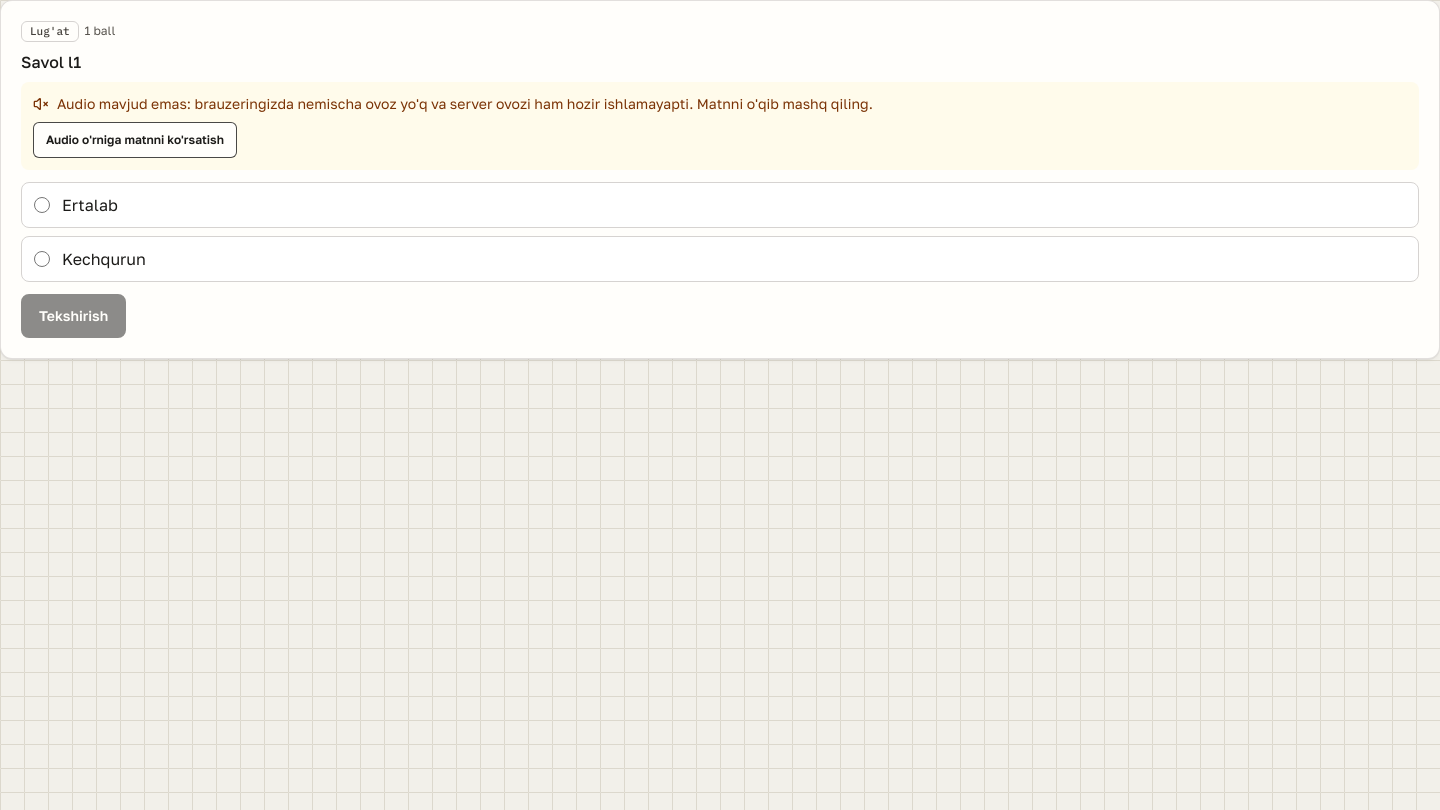
it: audio exercises without TTS › says audio is not available instead of showing a play button, and can reveal the text
Expected: the text "Audio mavjud emas" is shown, [57,95,873,112]
Click the button "Audio o'rniga matnni ko'rsatish" at (135, 140), box [33,122,237,158]
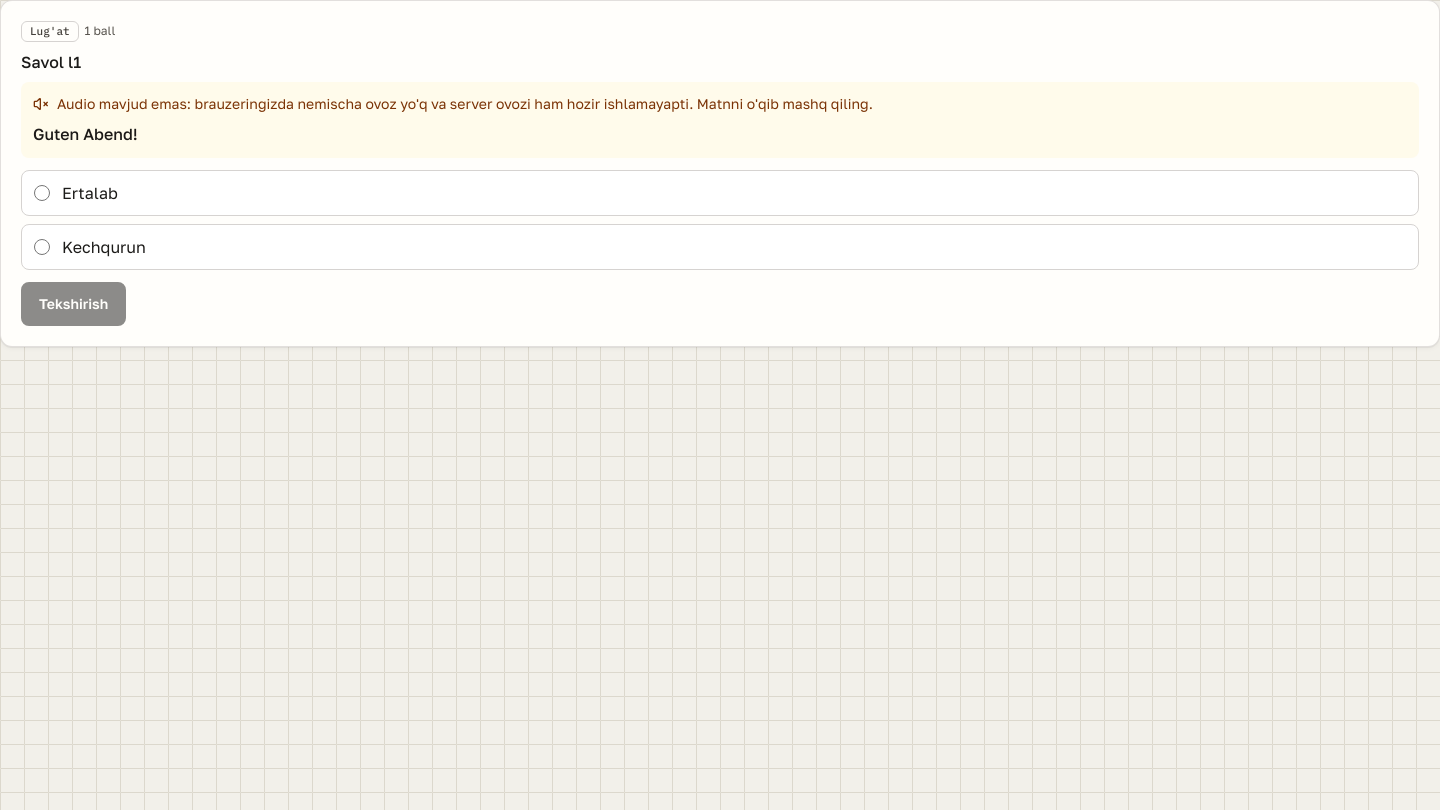
Now the text "Guten Abend!" is shown, box [33,124,138,144]
